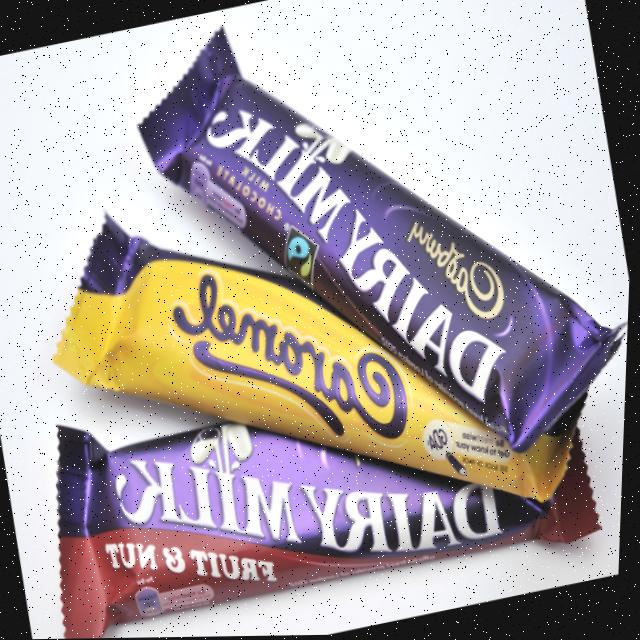cadbury: (110, 0, 640, 511), (35, 323, 612, 639)
